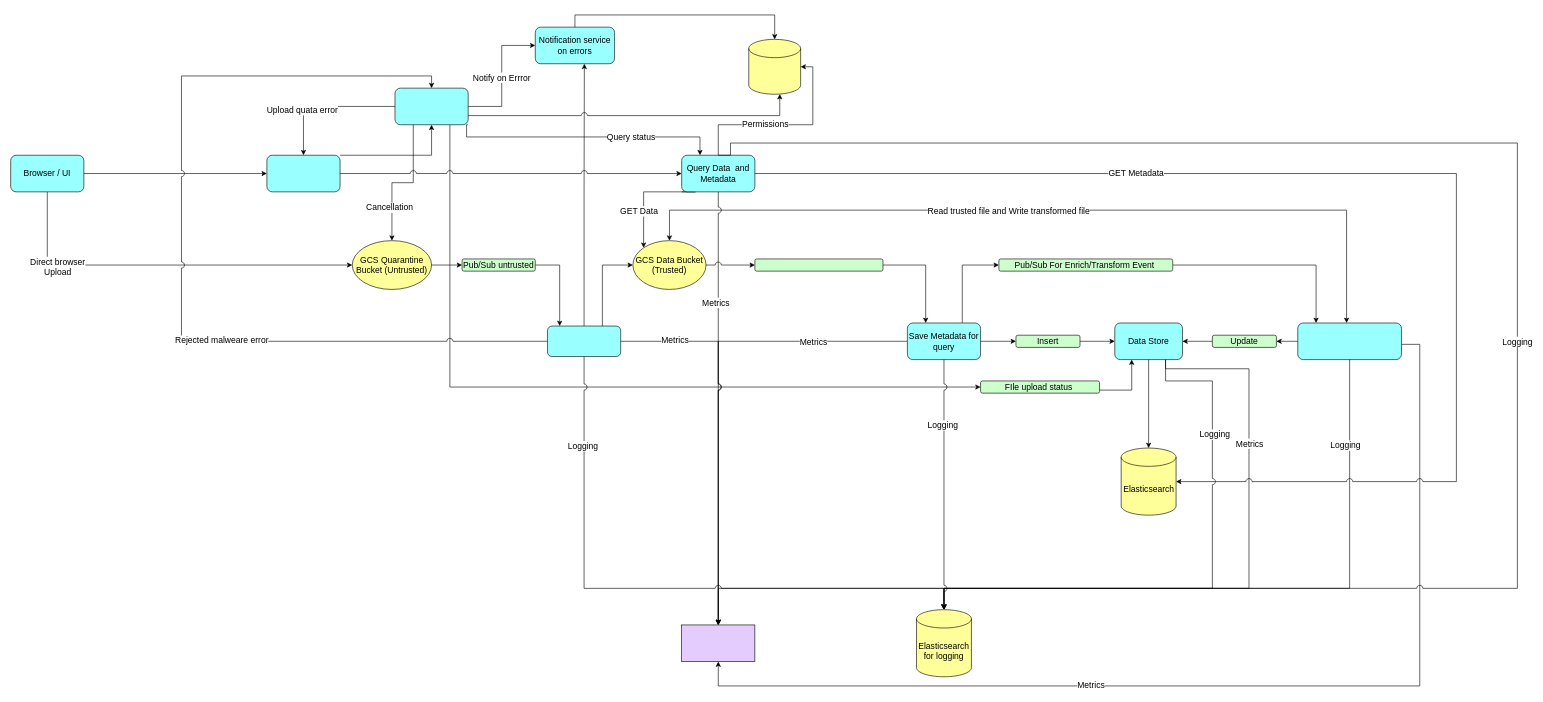
The diagram is 1543 pixels wide and 702 high, and some of its shapes have lost their labels. The shapes that lost their labels are listed below. From the top down, each one's box as (x1, y1, x2, y2) in pixels, then its label:
(748, 39, 801, 94): PostgreSQL
(394, 88, 468, 125): API Gateway / Upload API
(266, 155, 340, 192): Load Balancer
(754, 258, 883, 271): Pub/Sub Uploaded Event
(547, 325, 621, 357): Security Validation Service
(1297, 322, 1401, 360): Enrich/Transform with Metadata (by data type workers)
(681, 624, 755, 662): Prometheus
